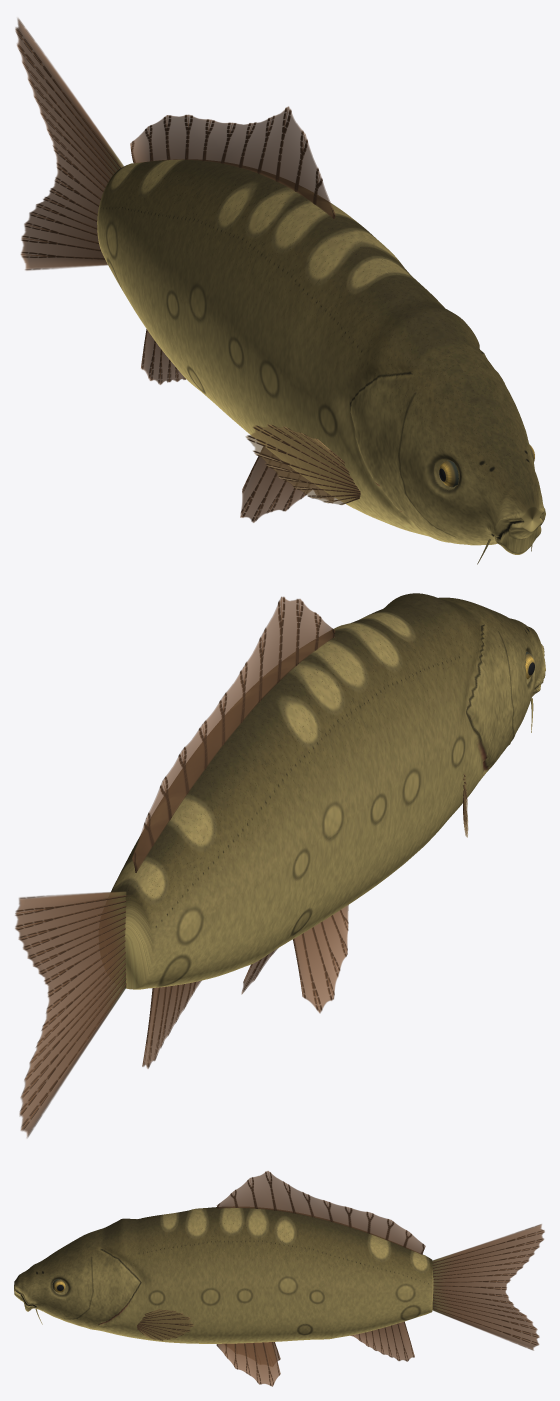
The model's file is karp_lustrzen.glb.
The picture shows the model from 3 angles, top to bottom: view 1: azimuth 30°, elevation 25°; view 2: azimuth 150°, elevation 25°; view 3: azimuth 270°, elevation 25°; orthographic projection. The views are drawn at different scales.
Parts seen in each view (by area): view 1: Body, FinCaudal, FinDorsal1, FinPectoral, FinPelvic, FinAnal; view 2: Body, FinCaudal, FinDorsal1, FinPelvic, FinAnal; view 3: Body, FinCaudal, FinDorsal1, FinPelvic, FinAnal, FinPectoral.
Boxes of the visible parts, <box> form: Body: <box>97,159,545,554</box>; FinCaudal: <box>15,18,123,270</box>; FinDorsal1: <box>130,106,335,218</box>; FinPectoral: <box>245,424,360,504</box>; FinPelvic: <box>240,446,333,522</box>; FinAnal: <box>141,329,185,384</box>; Body: <box>111,593,545,989</box>; FinCaudal: <box>15,891,126,1137</box>; FinDorsal1: <box>132,596,335,872</box>; FinPelvic: <box>241,905,348,1013</box>; FinAnal: <box>142,980,201,1068</box>; Body: <box>14,1207,433,1343</box>; FinCaudal: <box>432,1224,544,1350</box>; FinDorsal1: <box>216,1171,425,1254</box>; FinPelvic: <box>216,1342,280,1386</box>; FinAnal: <box>350,1321,414,1361</box>; FinPectoral: <box>137,1309,194,1340</box>.
Size of the model in its own units: 0.2479 by 0.4311 by 0.9993.
9 materials, 8 textured.
